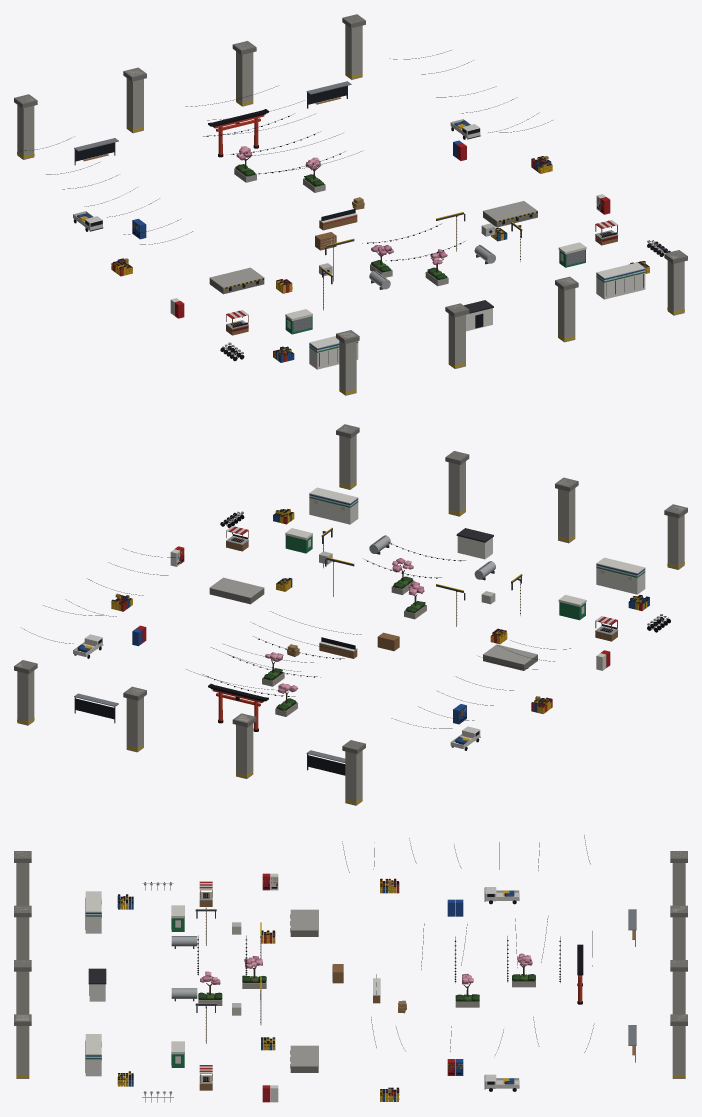
Rendered from gj-props.glb.
3 views of the same model, one above another, from view 1: azimuth 30°, elevation 25°; view 2: azimuth 150°, elevation 25°; view 3: azimuth 270°, elevation 25° (orthographic).
Parts seen in each view (by area): view 1: gj-props; view 2: gj-props; view 3: gj-props.
Part boxes in pixels (box(x1,y1,x2,y2)): gj-props: box(14, 14, 687, 395); gj-props: box(14, 424, 687, 805); gj-props: box(14, 835, 687, 1102).
Bounding box in the file's own units: 64.02 × 8 × 83.8.
